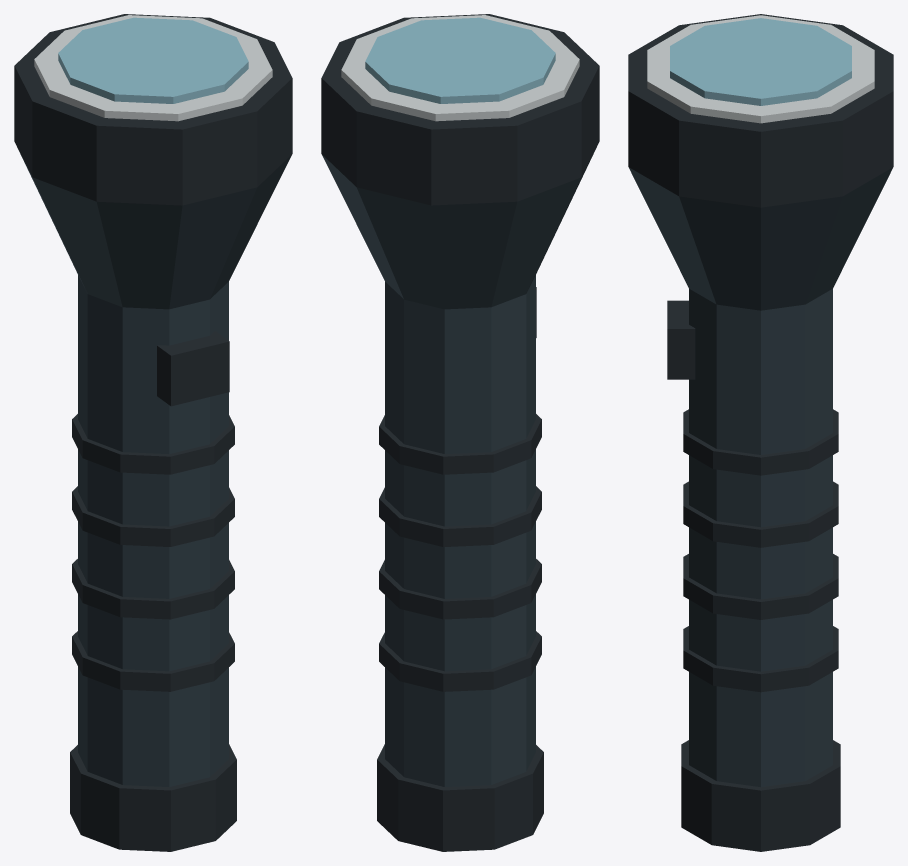
The model's file is b17_handheld_torch_flashlight.glb.
3 views of the same model, side by side, from view 1: azimuth 30°, elevation 25°; view 2: azimuth 150°, elevation 25°; view 3: azimuth 270°, elevation 25° (orthographic).
Visible parts, largest first — view 1: b17_handheld_torch_flashlight; view 2: b17_handheld_torch_flashlight; view 3: b17_handheld_torch_flashlight.
Boxes of the visible parts, x1=… form: b17_handheld_torch_flashlight: x1=14, y1=14, x2=292, y2=851; b17_handheld_torch_flashlight: x1=321, y1=14, x2=599, y2=851; b17_handheld_torch_flashlight: x1=628, y1=14, x2=893, y2=851.
Size of the model in its own units: 0.07 by 0.21 by 0.0666.
